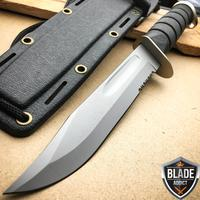knife: (2, 8, 183, 199)
